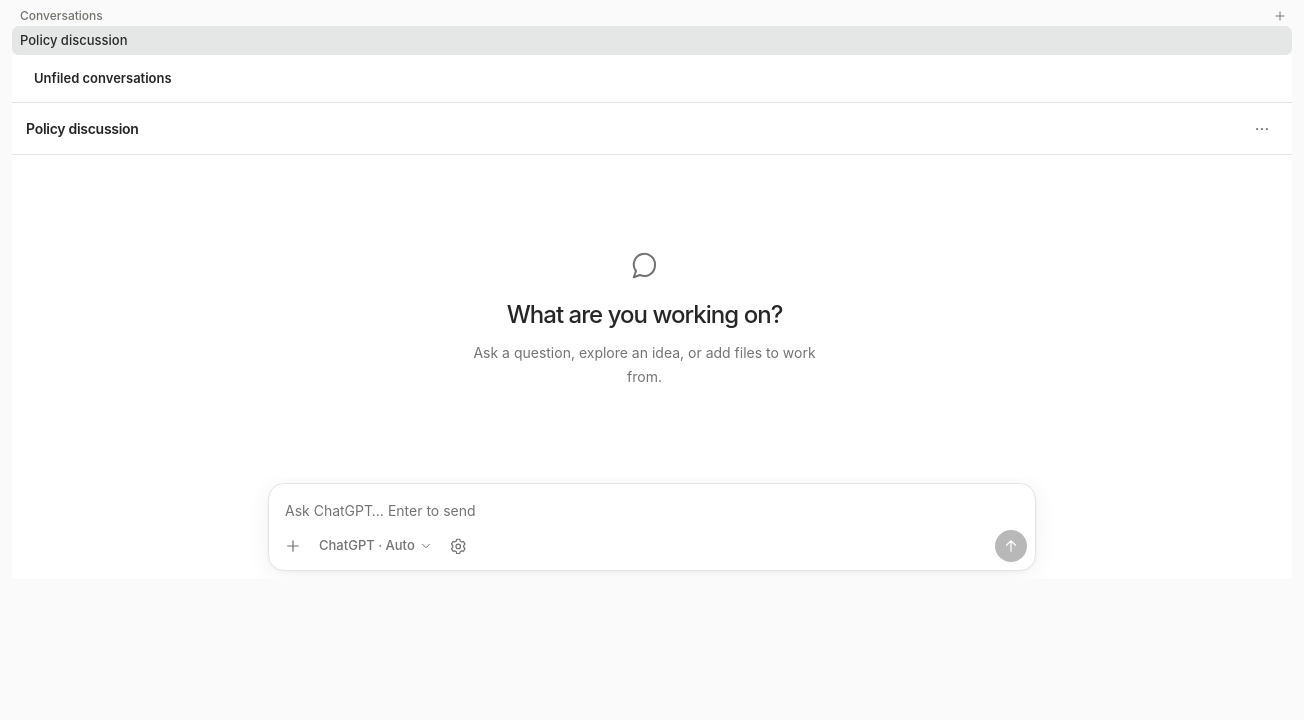
opens the attach menu lazily and offers only things added to a message
Expected: the heading "Policy discussion" is shown, [26, 120, 139, 136]
Click the button named "Add to message" at (293, 546), box [277, 530, 309, 562]
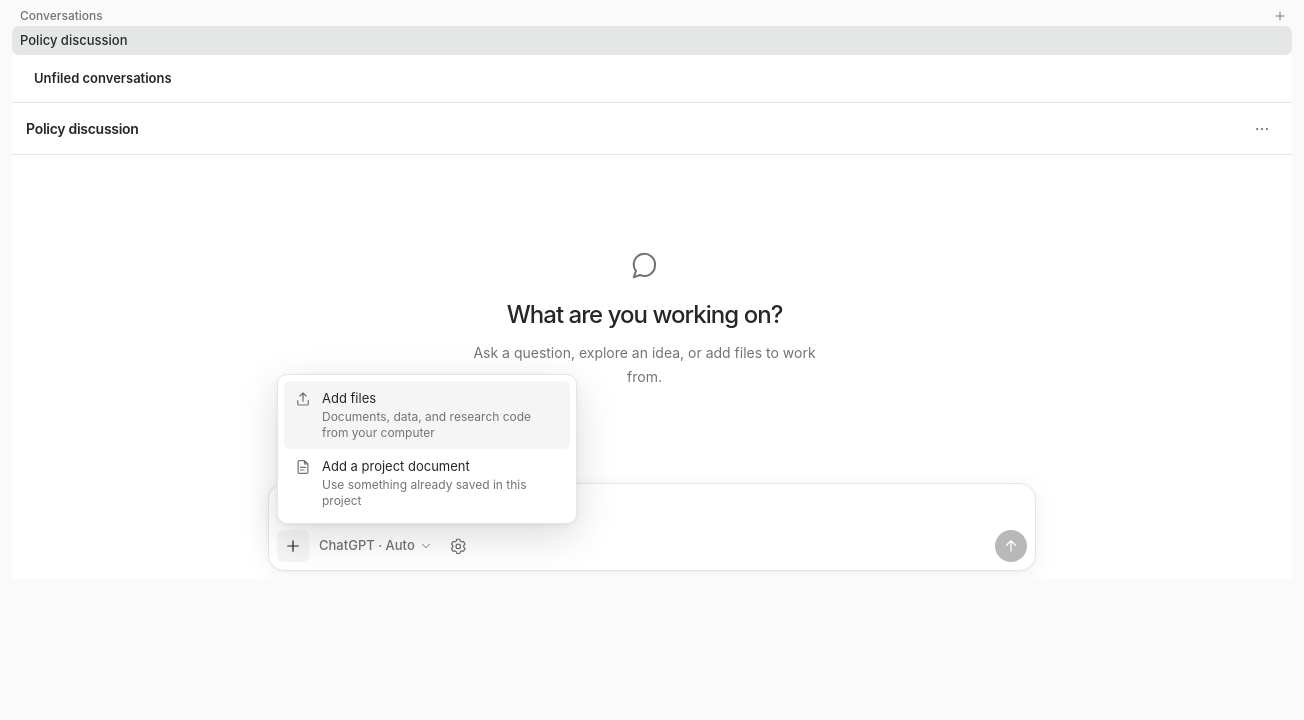
Now the menu item "Add a project document" is shown, box [284, 449, 570, 517]
Press Escape in the menu item "Add files", box [284, 381, 570, 449]
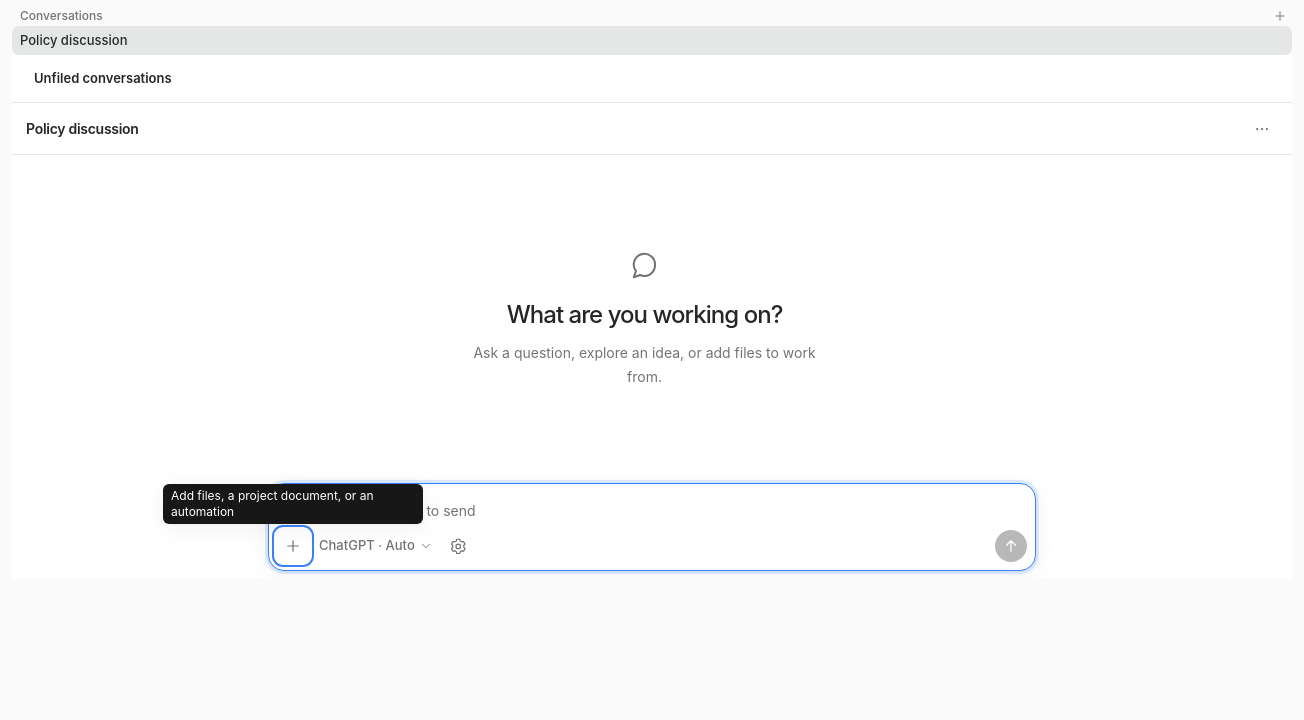
Now the menu is gone
